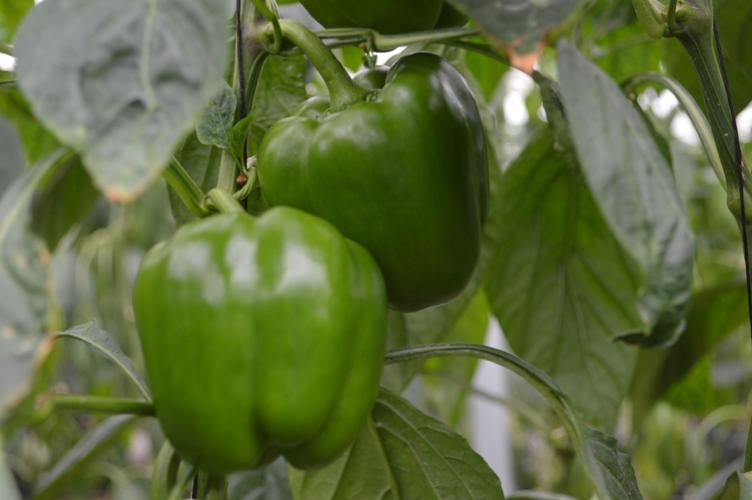BellPepper: (135, 209, 391, 473), (255, 49, 495, 315)
